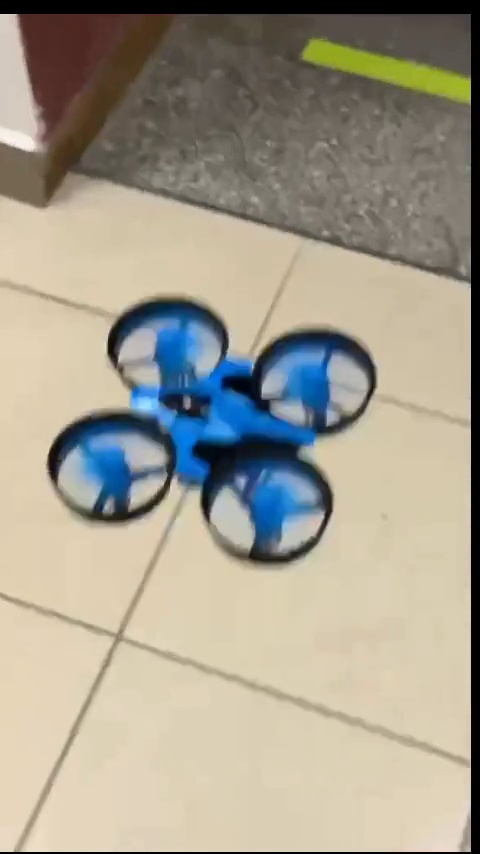drone: (59, 300, 375, 556)
